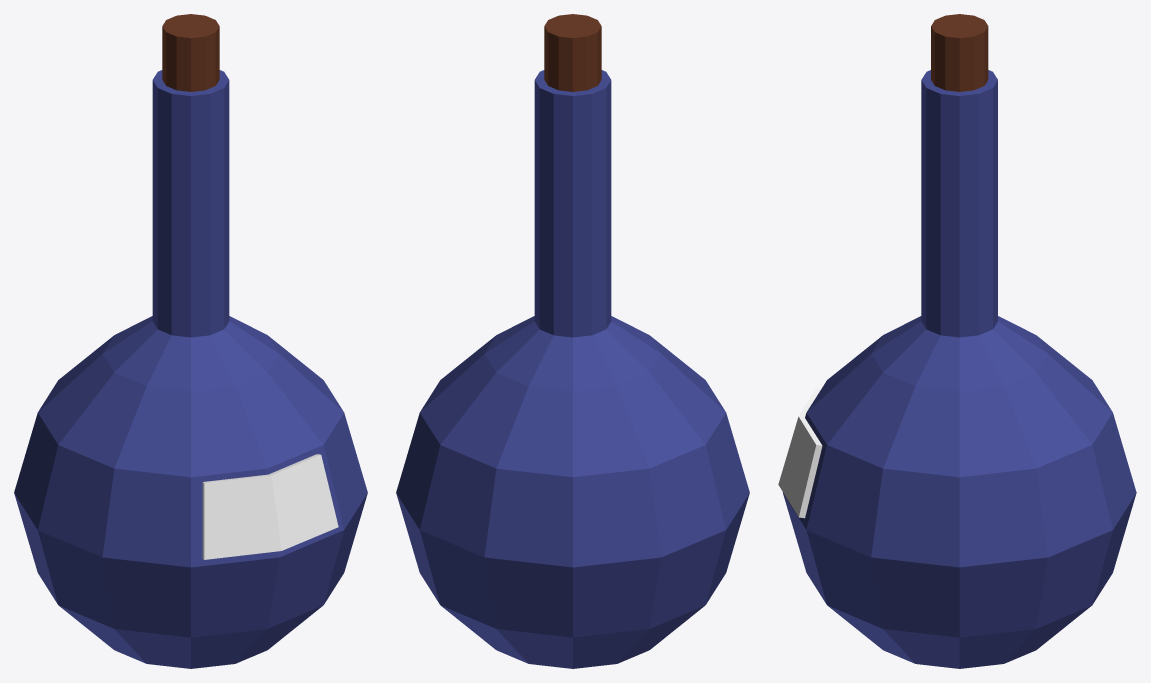
Rendered from SM_potion_03.fbx.
3 renders of one model, left to right at view 1: azimuth 30°, elevation 25°; view 2: azimuth 150°, elevation 25°; view 3: azimuth 270°, elevation 25°, orthographic.
Parts seen in each view (by area): view 1: Sphere002; view 2: Sphere002; view 3: Sphere002.
Part boxes in pixels (bbox=[...]): Sphere002: bbox=[14, 14, 367, 668]; Sphere002: bbox=[396, 14, 749, 668]; Sphere002: bbox=[778, 14, 1136, 668].
Bounding box in the file's own units: 9.11 × 17.8 × 9.22.
